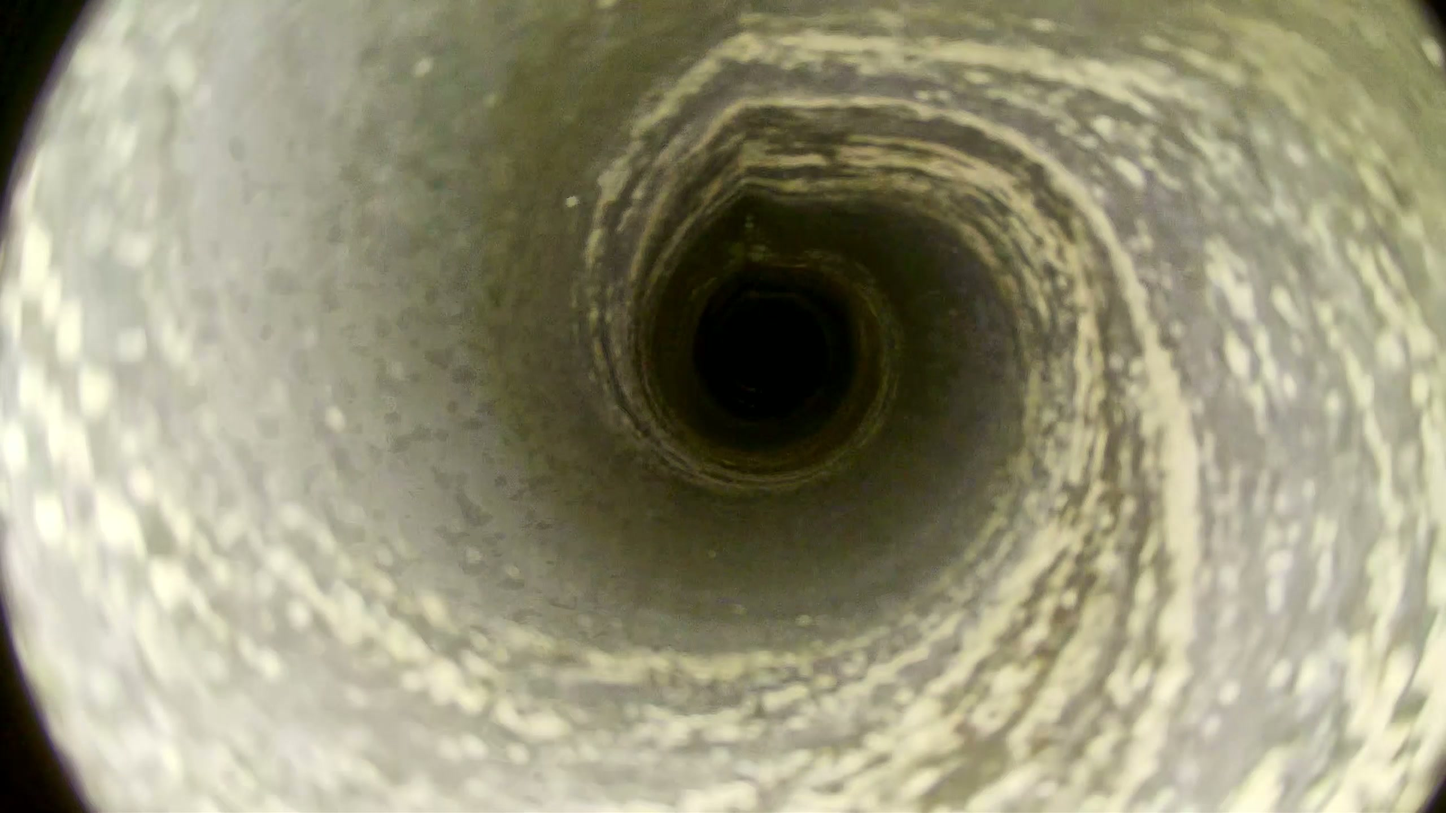hole: (715, 302, 827, 411)
